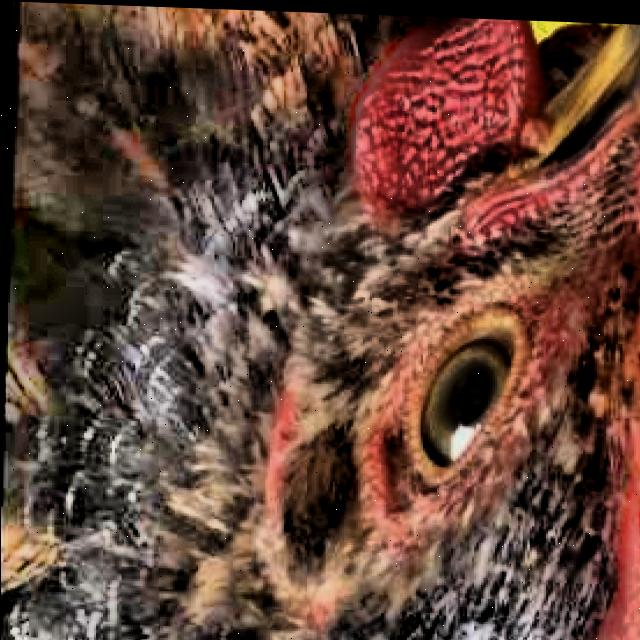Healthy: (368, 277, 542, 500)
